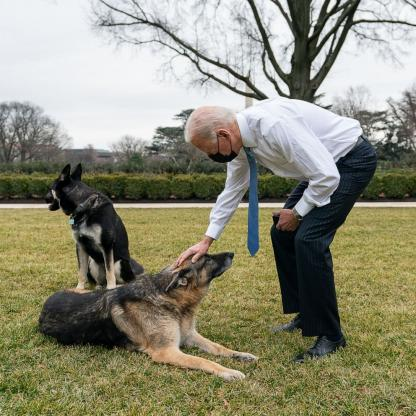dog: (43, 250, 254, 378), (41, 165, 136, 289)
